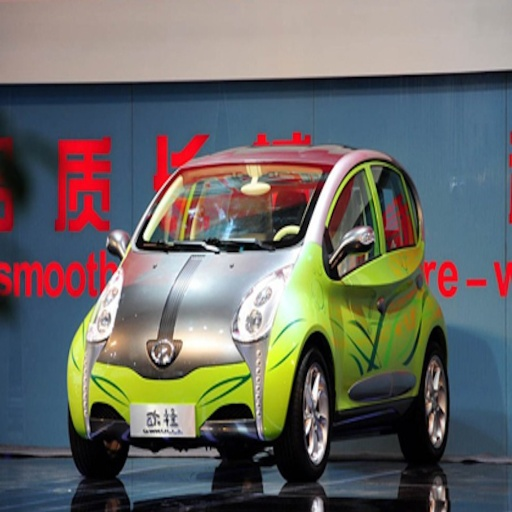front_bumper: (221, 342, 285, 441)
front_glass: (138, 164, 330, 252)
front_left_door: (325, 160, 392, 408)
trunk: (90, 306, 226, 432)
